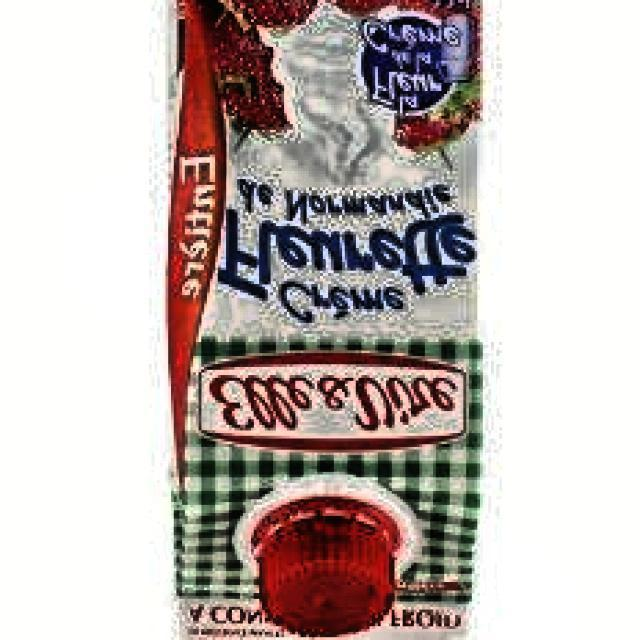cardboard: (162, 0, 486, 640)
